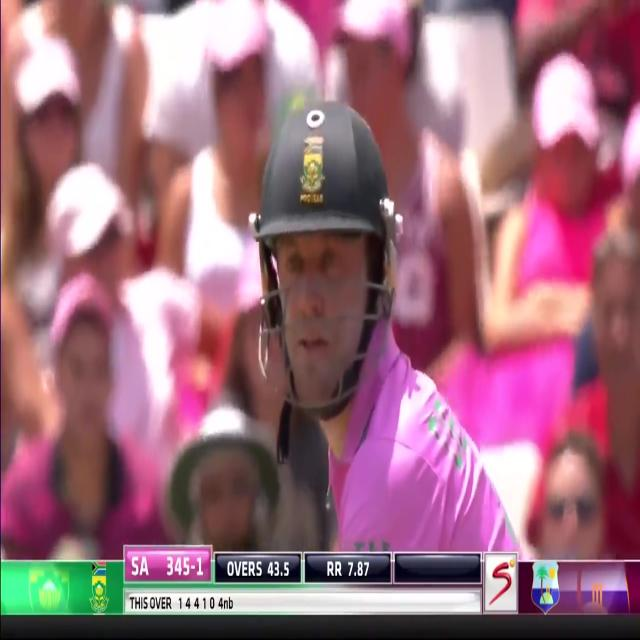Ball: (182, 98, 515, 554)
